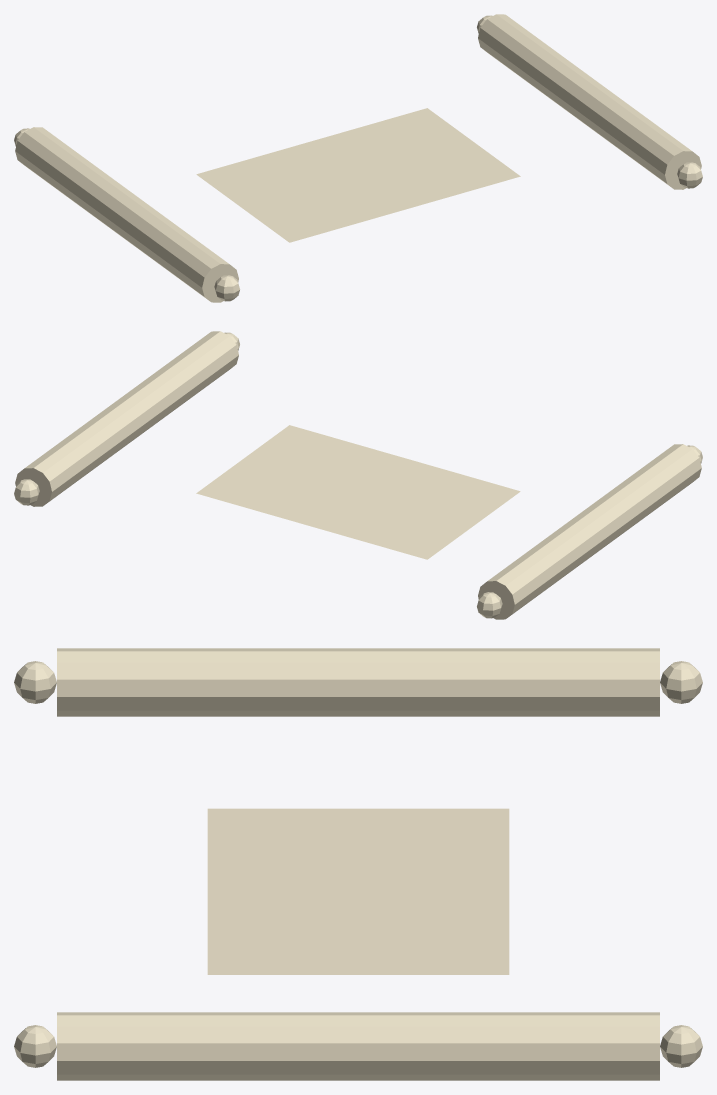
File: scroll.glb
3 views of the same model, one above another, from view 1: azimuth 30°, elevation 25°; view 2: azimuth 150°, elevation 25°; view 3: azimuth 270°, elevation 25° (orthographic). The views are drawn at different scales.
Visible parts, largest first — view 1: scroll; view 2: scroll; view 3: scroll.
Part boxes in pixels (x1=…): scroll: x1=14, y1=14, x2=702, y2=302; scroll: x1=14, y1=331, x2=702, y2=619; scroll: x1=14, y1=648, x2=702, y2=1080.
Size of the model in its own units: 0.216 by 0.017 by 0.16.
